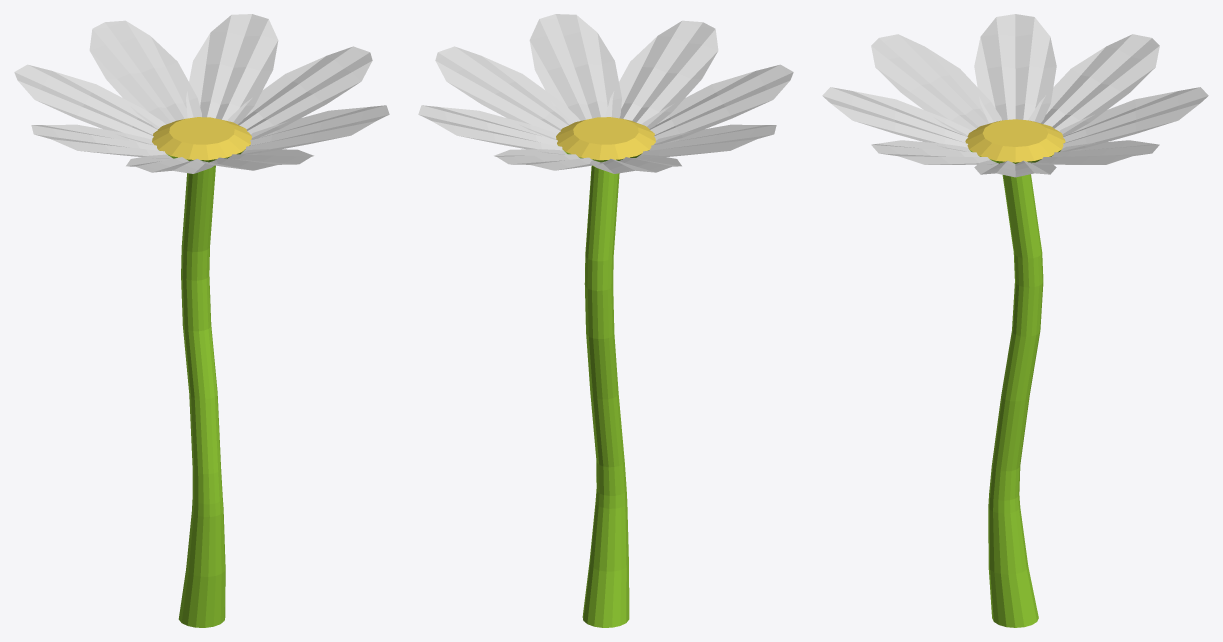
File: flower.fbx
The picture shows the model from 3 angles, left to right: view 1: azimuth 30°, elevation 25°; view 2: azimuth 150°, elevation 25°; view 3: azimuth 270°, elevation 25°; orthographic projection.
Parts seen in each view (by area): view 1: Circle, Circle.001, Circle.002; view 2: Circle, Circle.001, Circle.002; view 3: Circle, Circle.001, Circle.002.
Boxes of the visible parts, bbox=[...] form: Circle: bbox=[14, 14, 389, 173]; Circle.001: bbox=[152, 117, 251, 627]; Circle.002: bbox=[15, 14, 387, 172]; Circle: bbox=[418, 14, 793, 173]; Circle.001: bbox=[556, 117, 655, 627]; Circle.002: bbox=[419, 14, 792, 173]; Circle: bbox=[822, 14, 1208, 177]; Circle.001: bbox=[965, 119, 1065, 627]; Circle.002: bbox=[823, 14, 1206, 177].
Size of the model in its own units: 770 by 1149 by 770.
